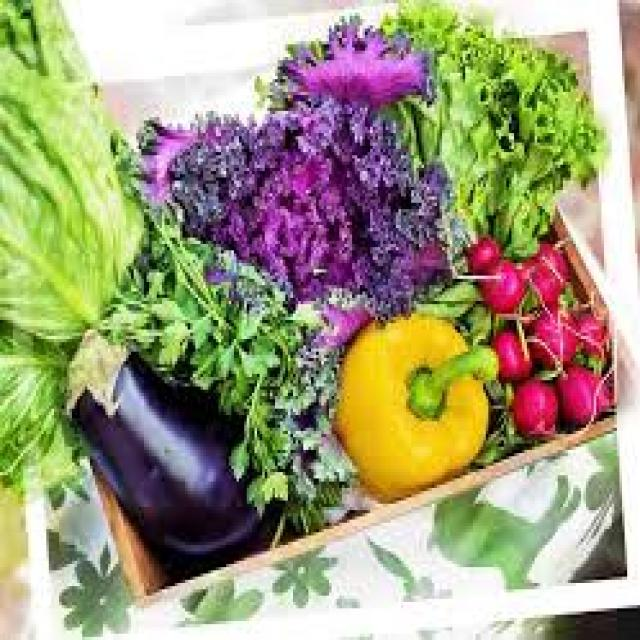organic waste: (98, 127, 326, 529), (134, 95, 460, 317), (380, 0, 606, 257), (0, 0, 146, 345), (62, 326, 264, 574), (332, 307, 496, 504), (406, 276, 535, 462), (260, 9, 437, 108), (0, 317, 82, 497), (522, 301, 573, 371), (555, 362, 609, 422), (478, 256, 532, 310), (509, 374, 555, 437), (524, 234, 568, 298), (491, 323, 529, 377), (571, 295, 604, 355), (465, 231, 496, 266)
